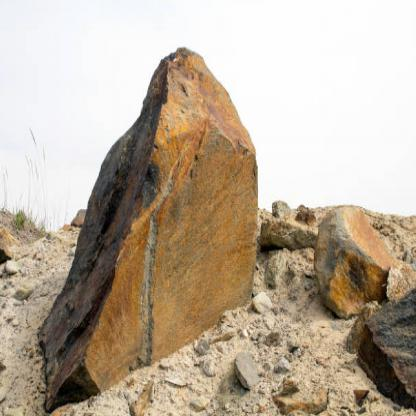Sedimentary_Limestone: (29, 37, 270, 415), (314, 181, 398, 314)
